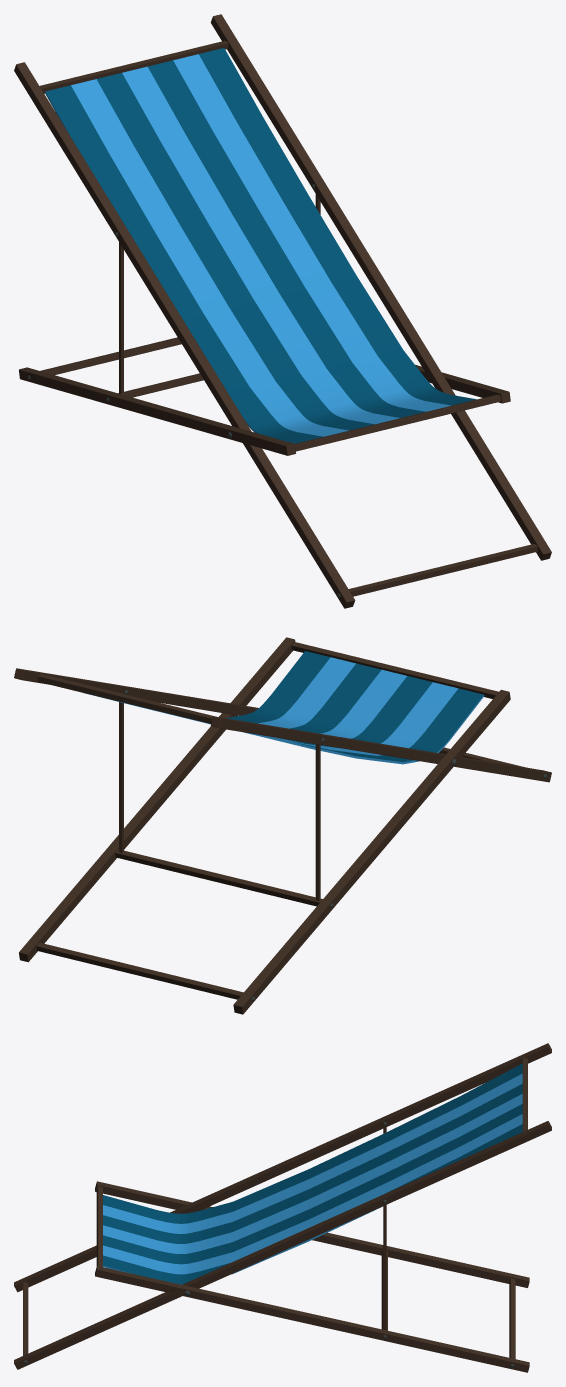
File: SunLounger.fbx
The picture shows the model from 3 angles, top to bottom: view 1: azimuth 30°, elevation 25°; view 2: azimuth 150°, elevation 25°; view 3: azimuth 270°, elevation 25°; orthographic projection. The views are drawn at different scales.
Parts seen in each view (by area): view 1: SunLounger; view 2: SunLounger; view 3: SunLounger.
Part boxes in pixels (left/top/right/bottom): SunLounger: left=14, top=14, right=551, bottom=608; SunLounger: left=14, top=637, right=551, bottom=1014; SunLounger: left=14, top=1043, right=551, bottom=1372.
Bounding box in the file's own units: 79 × 101 × 200.
